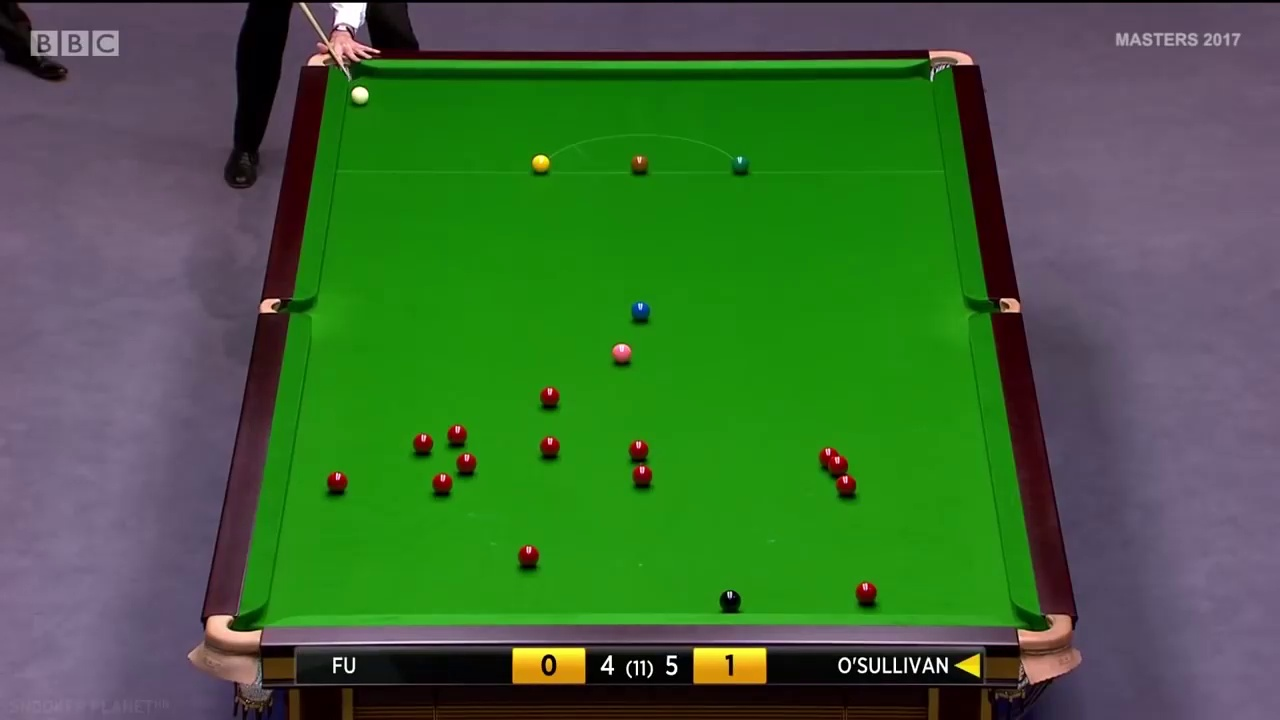ball: (628, 150, 652, 175), (538, 384, 562, 409), (833, 473, 856, 499), (854, 579, 876, 605), (517, 543, 540, 567), (536, 436, 561, 458), (630, 465, 653, 487), (610, 342, 634, 363), (325, 471, 347, 493), (630, 300, 651, 323), (413, 432, 434, 455), (429, 472, 451, 492), (529, 154, 552, 172), (628, 438, 649, 457), (446, 424, 465, 445), (350, 87, 371, 105), (456, 452, 474, 473), (728, 156, 748, 173)
